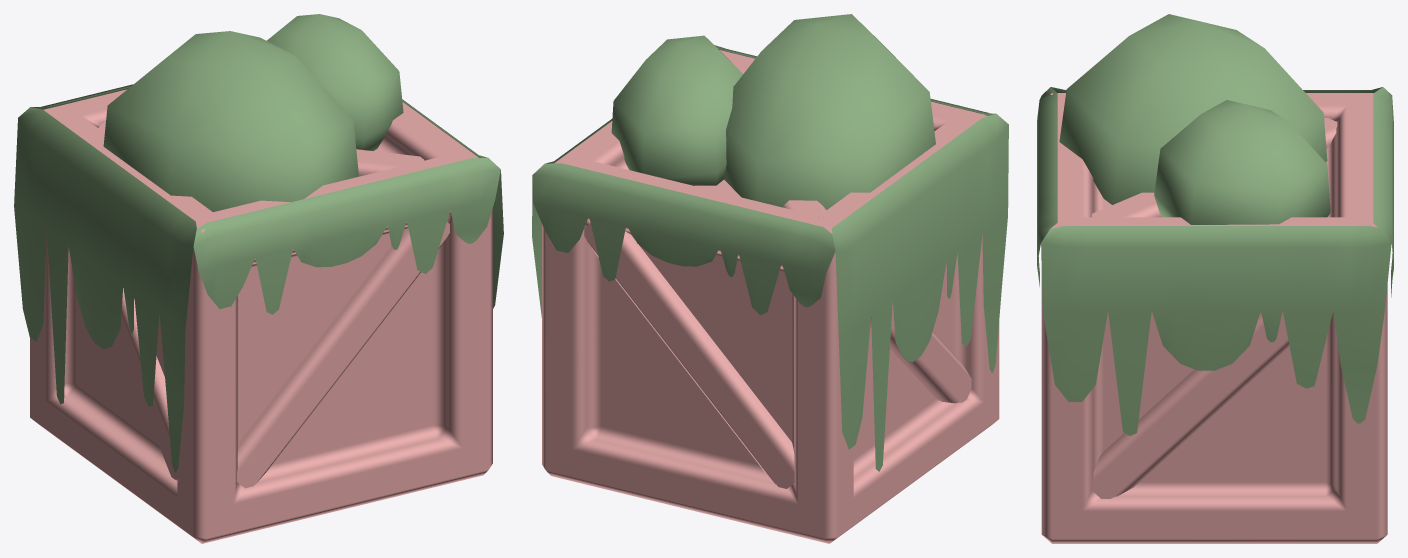
File: Crate_3.fbx
The picture shows the model from 3 angles, left to right: view 1: azimuth 30°, elevation 25°; view 2: azimuth 150°, elevation 25°; view 3: azimuth 270°, elevation 25°; orthographic projection.
Visible parts, largest first — view 1: Crate_3; view 2: Crate_3; view 3: Crate_3.
Boxes of the visible parts, bbox=[...] form: Crate_3: bbox=[14, 14, 503, 543]; Crate_3: bbox=[532, 14, 1008, 543]; Crate_3: bbox=[1037, 14, 1393, 543].
Size of the model in its own units: 50.96 by 67.31 by 50.14.
